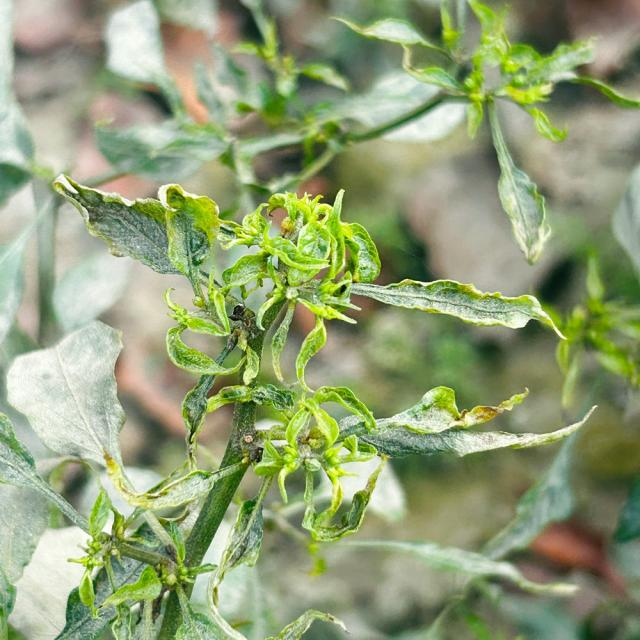Chilli_Leaf_Curl: (4, 171, 596, 637), (328, 1, 638, 266), (250, 390, 384, 541), (333, 384, 598, 460), (4, 318, 128, 471), (50, 172, 221, 280), (344, 277, 567, 341)
